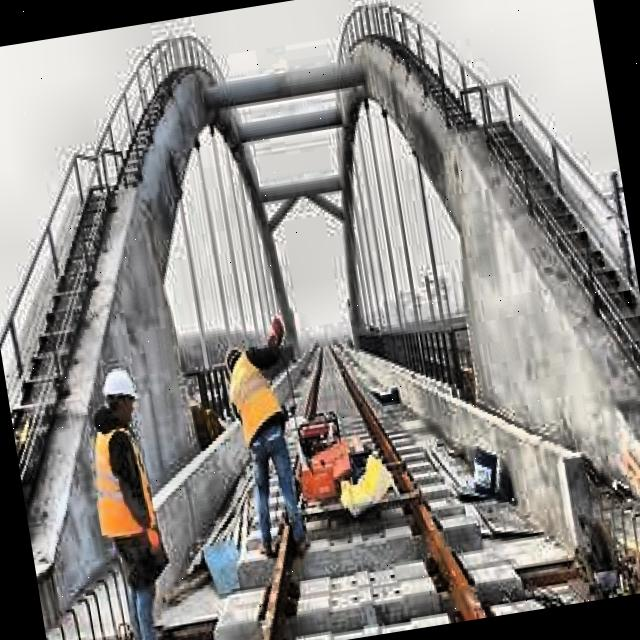helmet: (97, 362, 144, 430), (219, 338, 250, 379)
